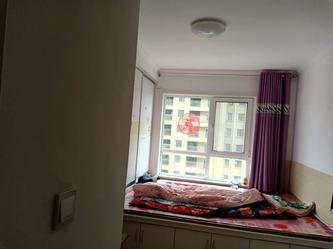switch: (59, 194, 78, 226)
